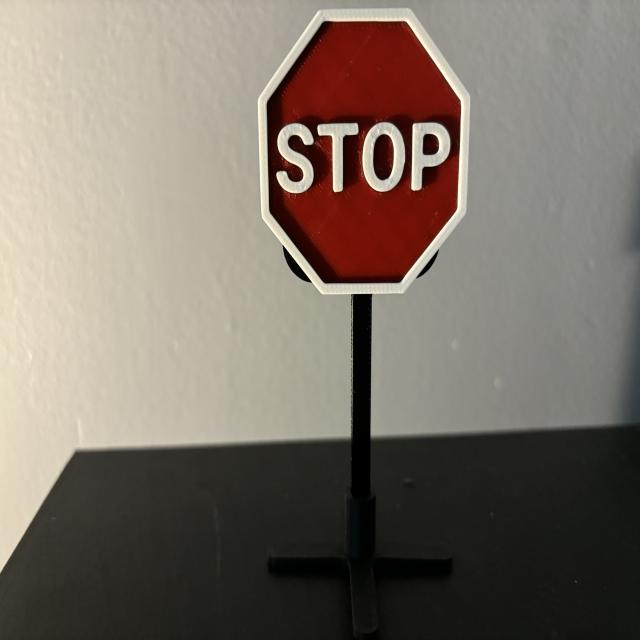sign_stop: (259, 9, 471, 295)
